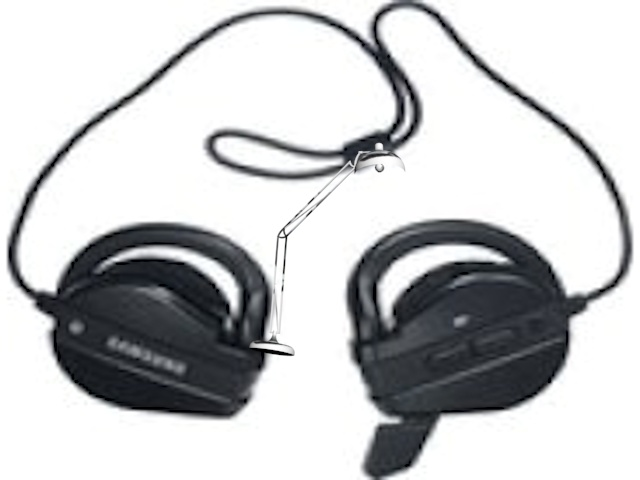desk_lamp: (249, 139, 408, 360)
